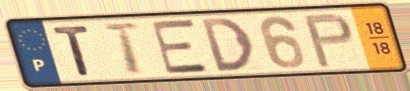6: (257, 14, 307, 71)
D: (197, 15, 257, 74)
E: (148, 18, 213, 77)
P: (301, 11, 356, 70)
T: (100, 21, 147, 76), (50, 24, 94, 78)
